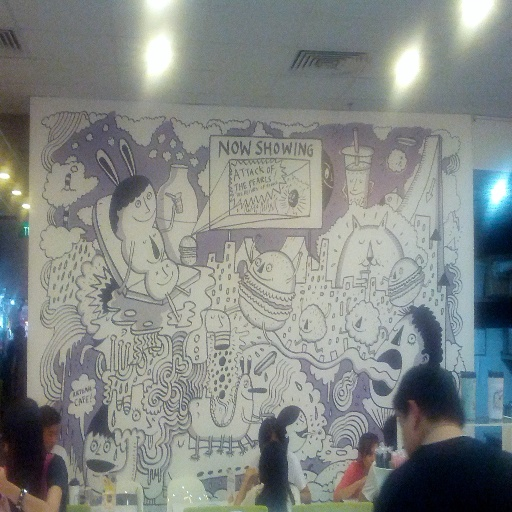hand: (0, 466, 7, 494), (244, 467, 258, 479), (357, 476, 367, 486)
